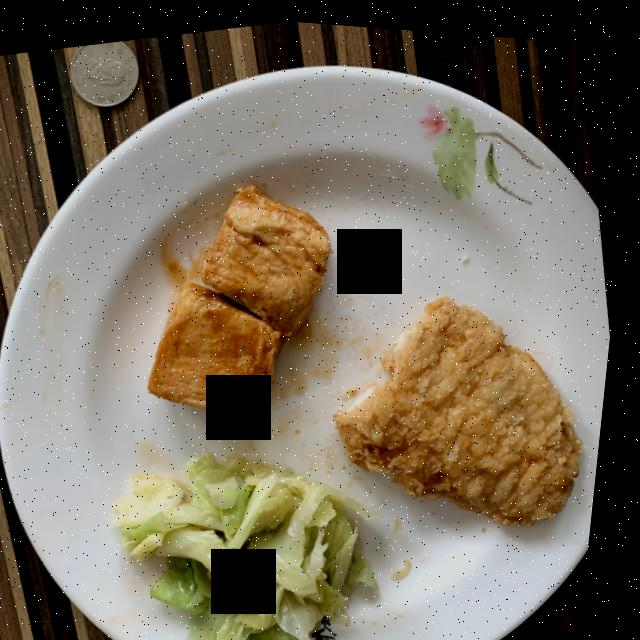cabbage: (124, 448, 389, 640)
coin: (71, 39, 140, 105)
creamy tofu: (156, 180, 336, 419)
fried chicken cutlet: (343, 289, 591, 517)
